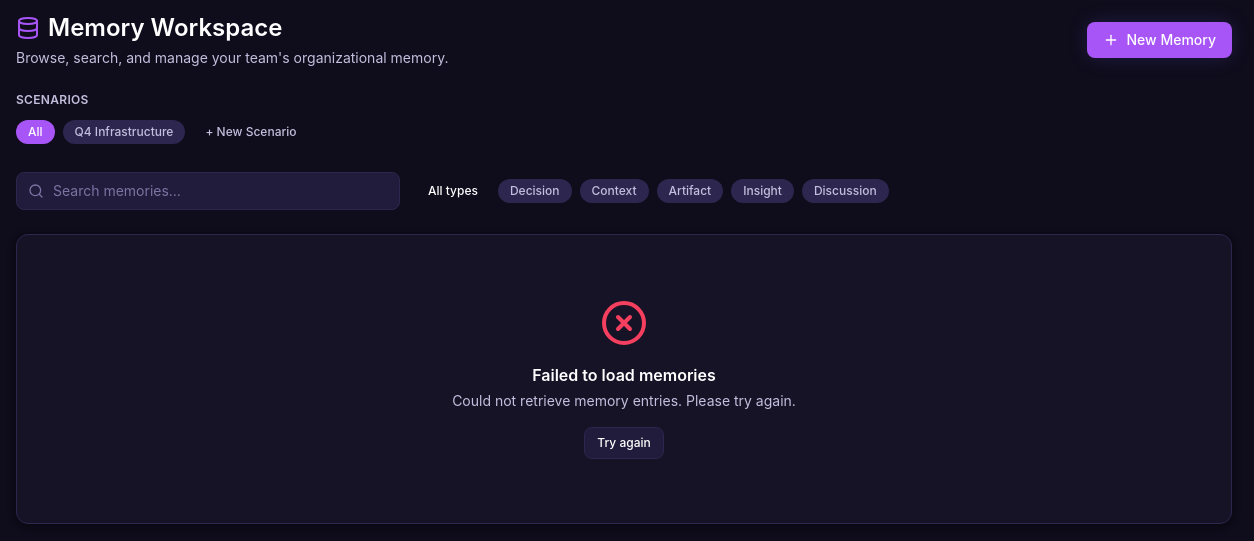
it: MemoryPage — error state › retries on error button click
The image size is (1254, 541).
Expected: the heading "Failed to load memories" is shown, x1=532 y1=365 x2=716 y2=385
Click the button "Try again" at (624, 443), box x1=584 y1=427 x2=664 y2=459
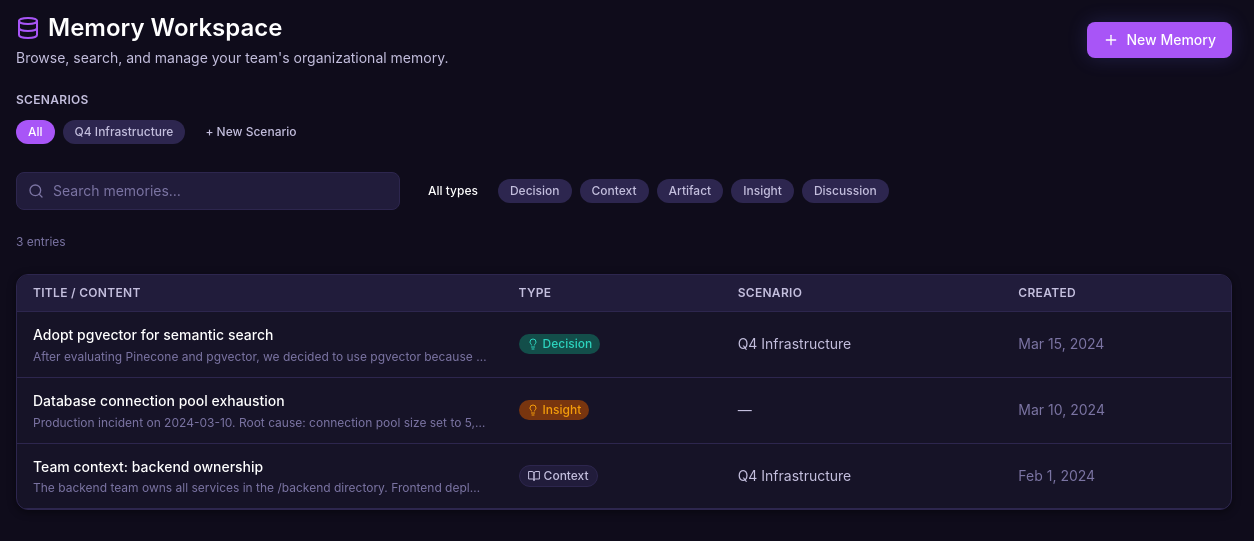
Result: the text "Adopt pgvector for semantic search" is shown at x1=33 y1=326 x2=273 y2=343
